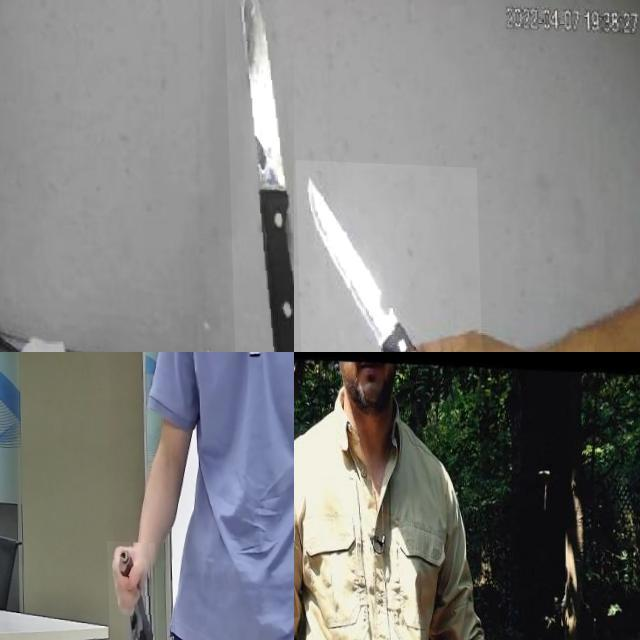-: (294, 157, 483, 352), (220, 0, 294, 352)
gun-knife-thesis - v11 Yolov5 augmented: (105, 539, 157, 640)
